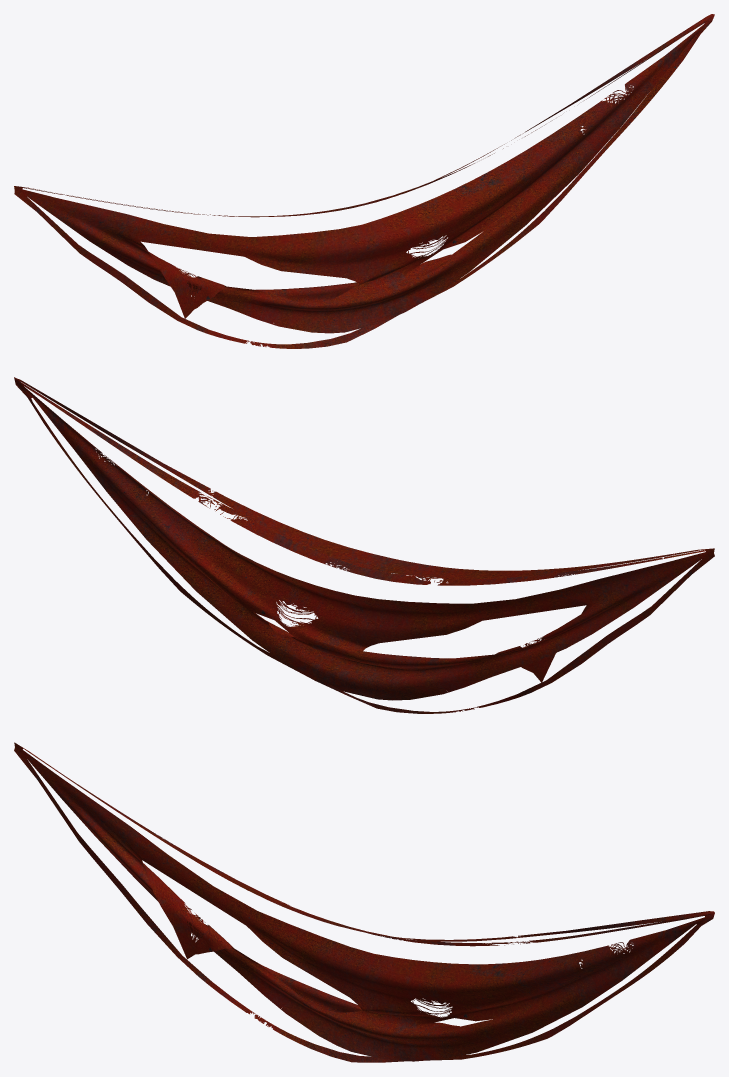
Rendered from P_Cloth02.fbx.
3 views of the same model, one above another, from view 1: azimuth 30°, elevation 25°; view 2: azimuth 150°, elevation 25°; view 3: azimuth 330°, elevation 25° (orthographic).
Visible parts, largest first — view 1: P_Cloth02; view 2: P_Cloth02; view 3: P_Cloth02.
Part boxes in pixels (bbox=[...]): P_Cloth02: bbox=[14, 14, 714, 348]; P_Cloth02: bbox=[14, 377, 714, 713]; P_Cloth02: bbox=[14, 742, 714, 1062].
Bounding box in the file's own units: 4260 × 1398 × 172.
